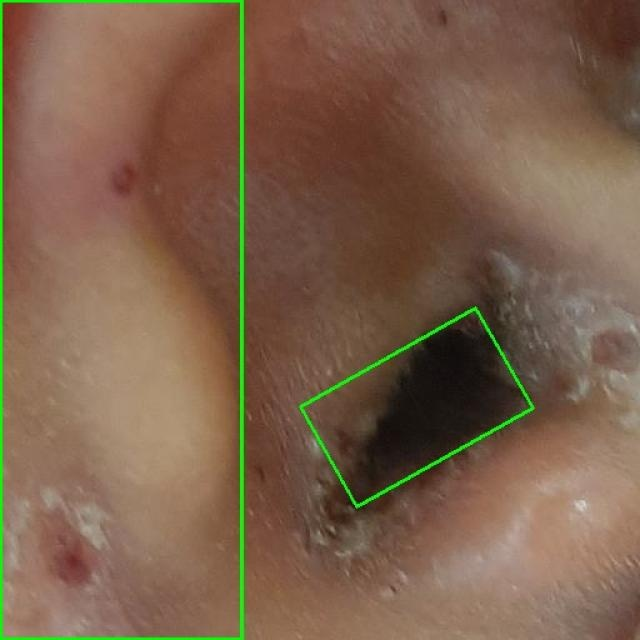Contact Dermatitis: (0, 0, 241, 639), (300, 308, 533, 507)
